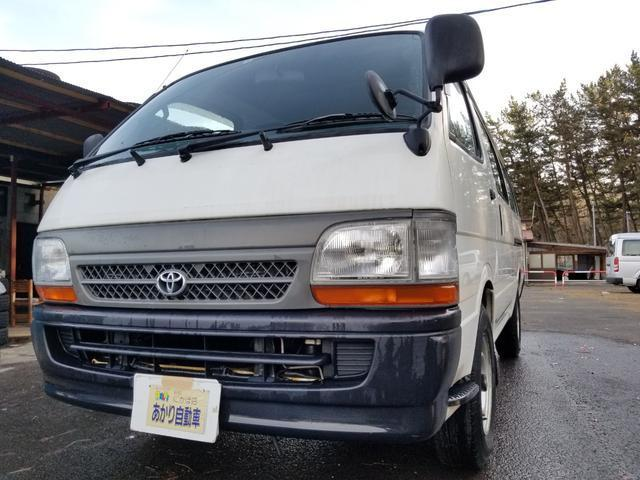Van: (28, 21, 543, 459)
